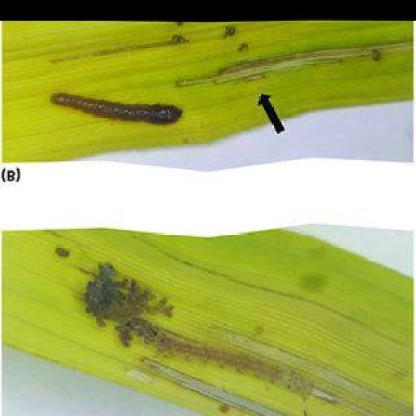leaf-folder: (45, 78, 187, 130), (72, 260, 150, 327), (142, 336, 270, 372), (225, 64, 274, 93)
